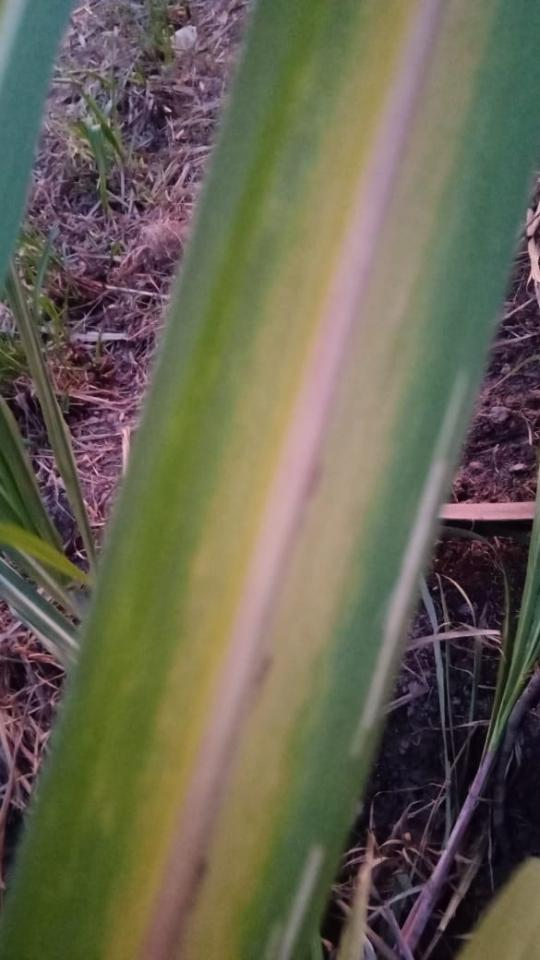RedRot: (144, 855, 202, 959)
Rust: (301, 466, 321, 507), (250, 655, 271, 690)
Yellow: (96, 0, 423, 959), (182, 0, 505, 959)
